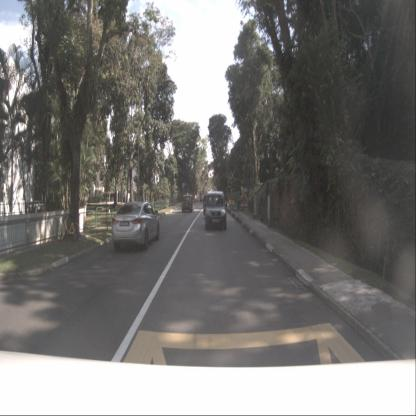vehicle-bicycle: (60, 209, 80, 242)
vehicle-car: (112, 201, 160, 250), (206, 191, 226, 230), (182, 195, 194, 212), (200, 194, 205, 203)
vehicle-motorcycle: (203, 195, 209, 220)
